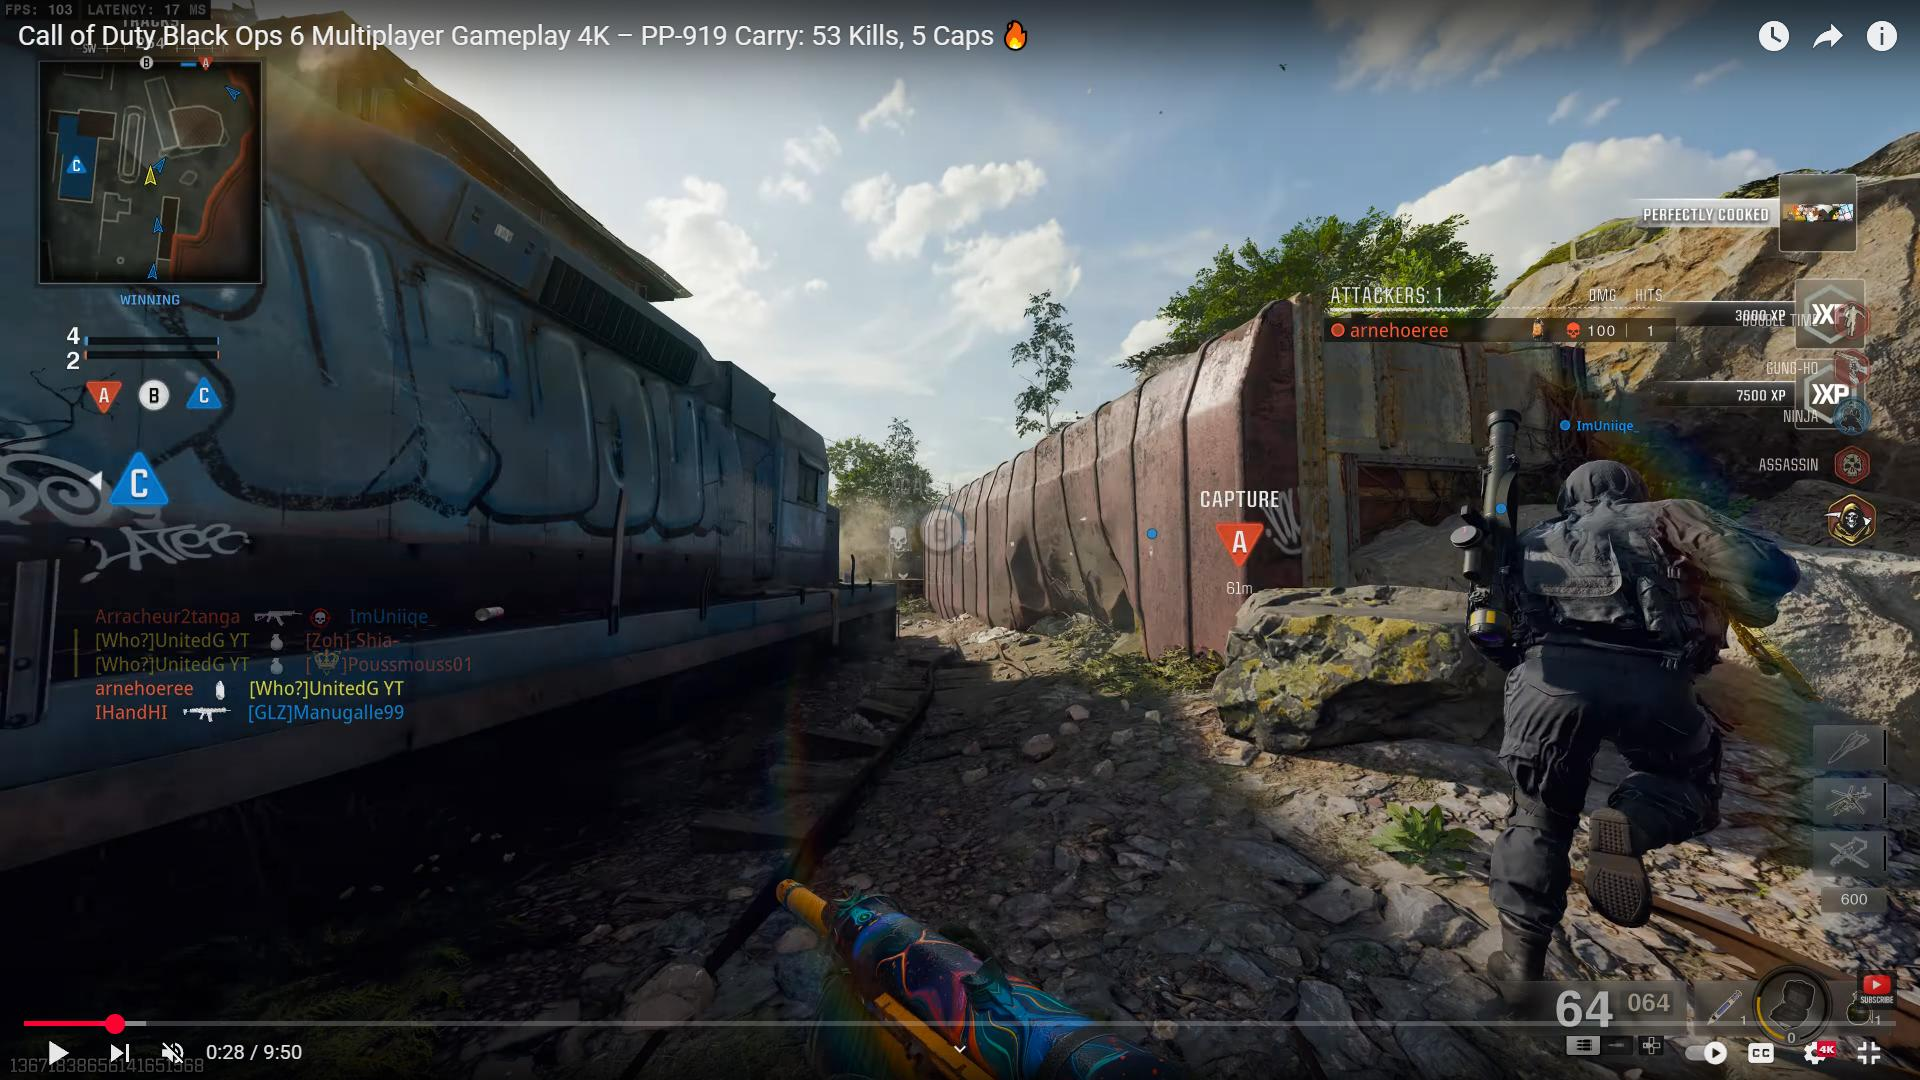Enemy: (1480, 444, 1735, 963)
